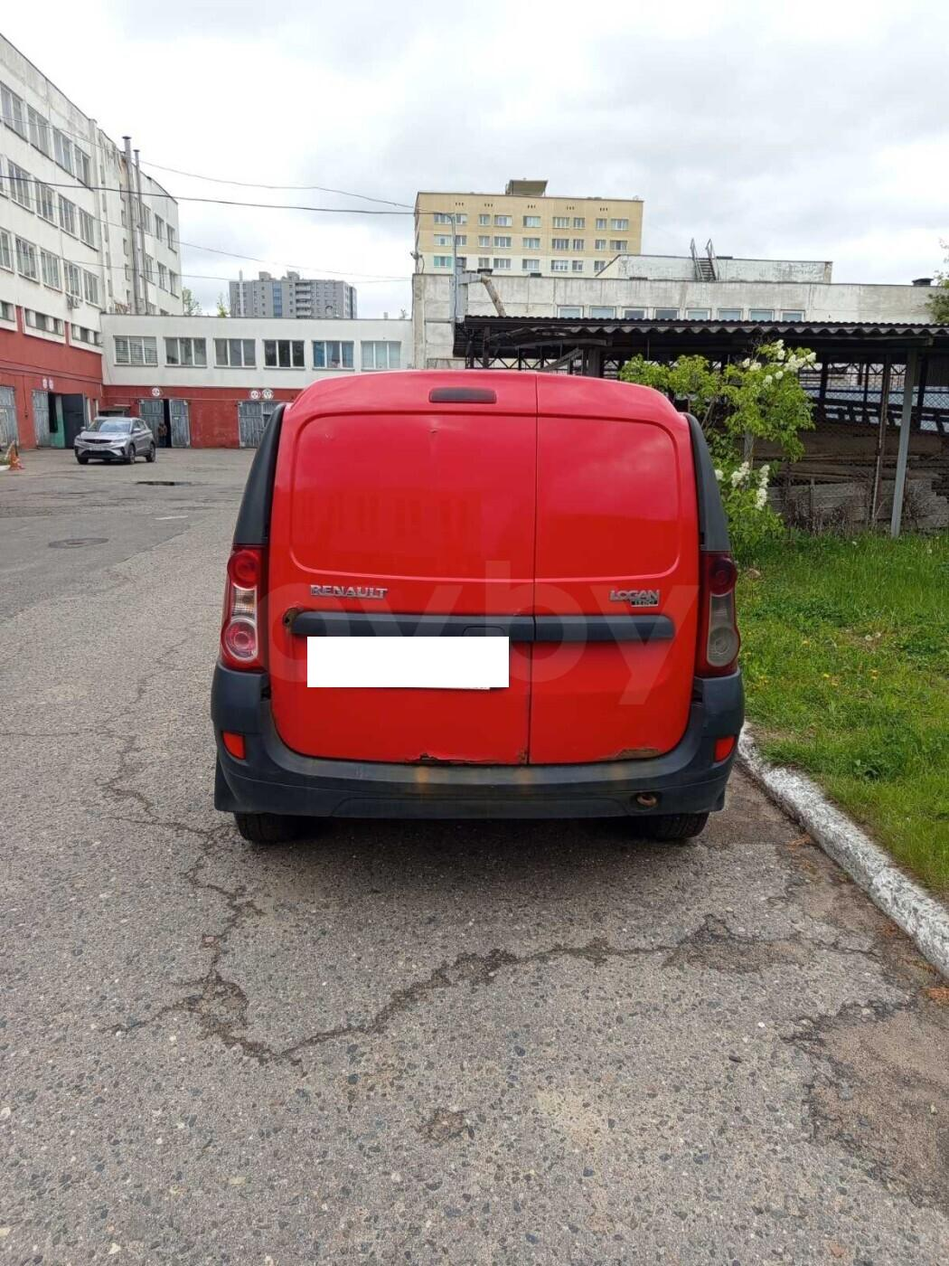Logan_2008-2015: (208, 356, 756, 868)
